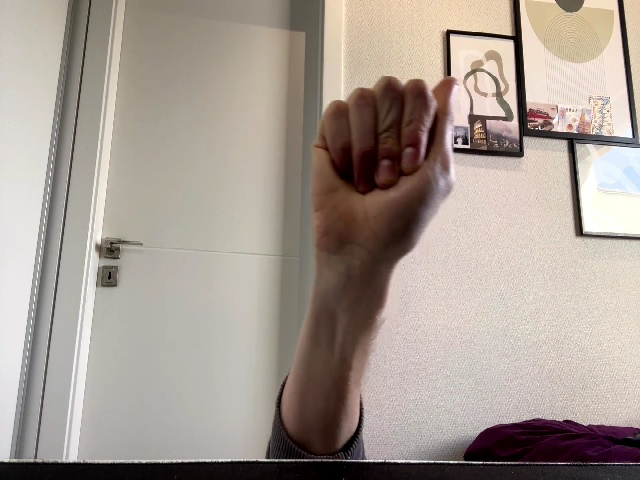A: (310, 76, 458, 261)
